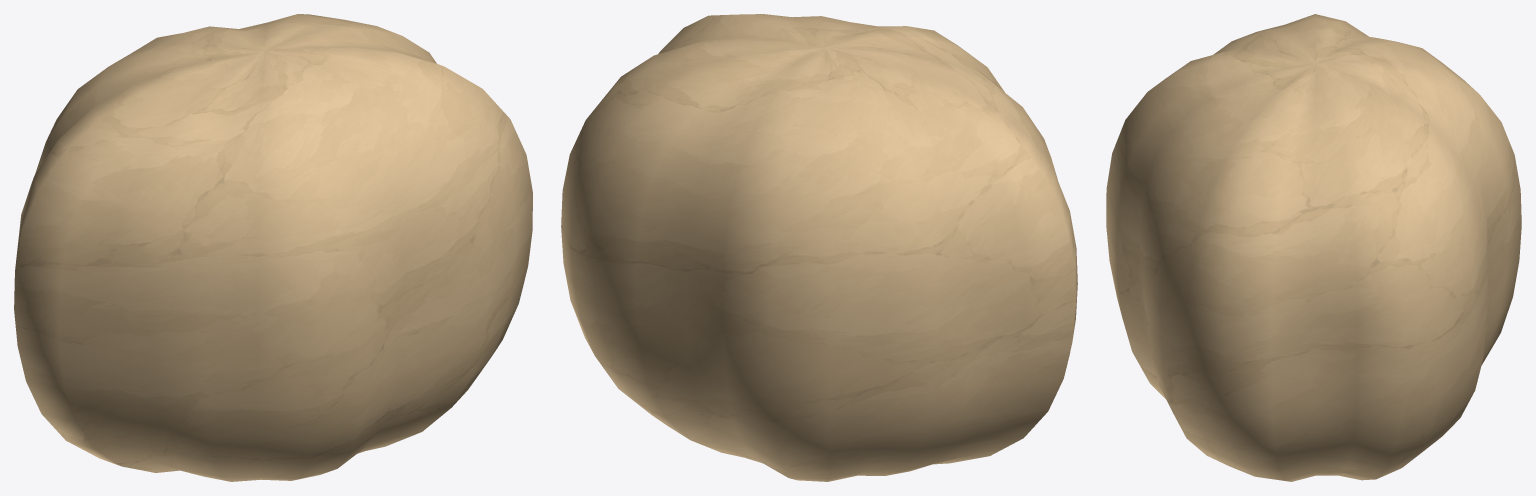
The model's file is rock_1.glb.
3 renders of one model, left to right at view 1: azimuth 30°, elevation 25°; view 2: azimuth 150°, elevation 25°; view 3: azimuth 270°, elevation 25°, orthographic. The views are drawn at different scales.
Parts seen in each view (by area): view 1: rock_1; view 2: rock_1; view 3: rock_1.
Part boxes in pixels (x1,y1,x2,y2): rock_1: (14, 14, 532, 481); rock_1: (561, 14, 1077, 481); rock_1: (1106, 14, 1521, 481).
Bounding box in the file's own units: 2.28 × 1.83 × 1.83.
Materials: 1 (1 with a texture image).
